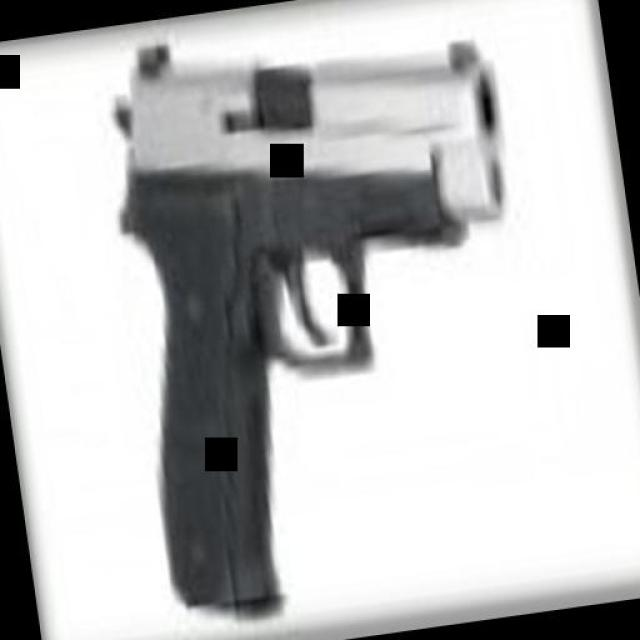gun: (90, 0, 556, 630)
